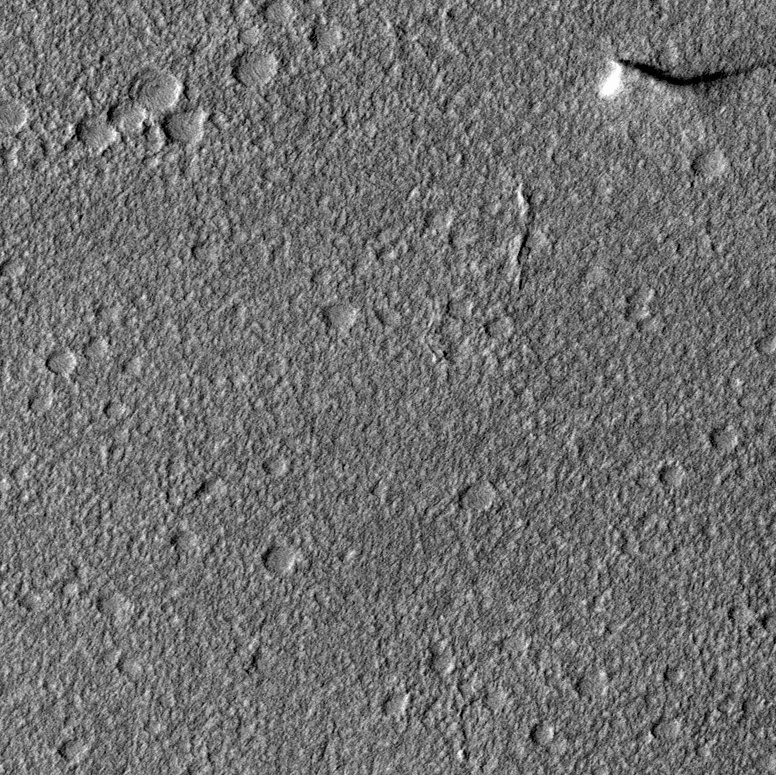dust_devil: (595, 52, 776, 104)
